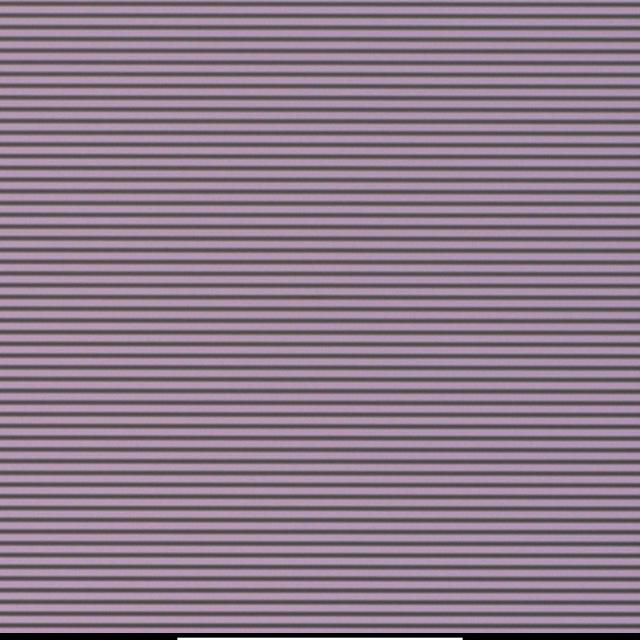03_intrusion: (309, 292, 314, 296)
